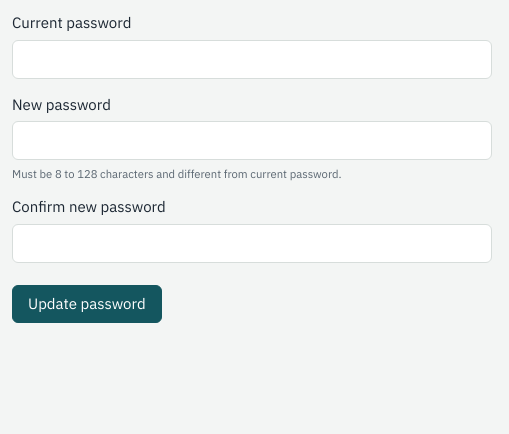
Test case: ChangePasswordForm Component › displays API error when changePassword fails
Step 1. Type "WrongPassword123!" into the password field labelled "Current password" → (252, 59), box x1=12 y1=40 x2=492 y2=79
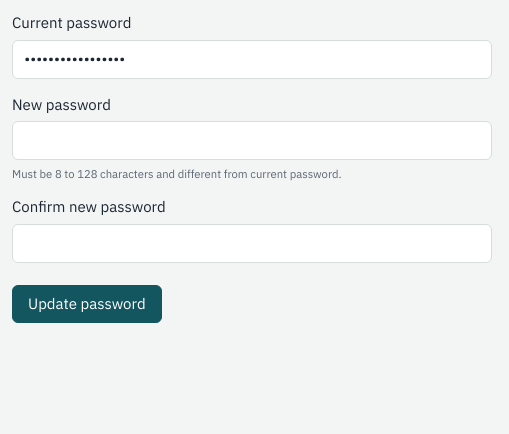
Step 2. Type "NewSecretPassword123!" into the password field labelled "New password" → (252, 141), box x1=12 y1=121 x2=492 y2=160
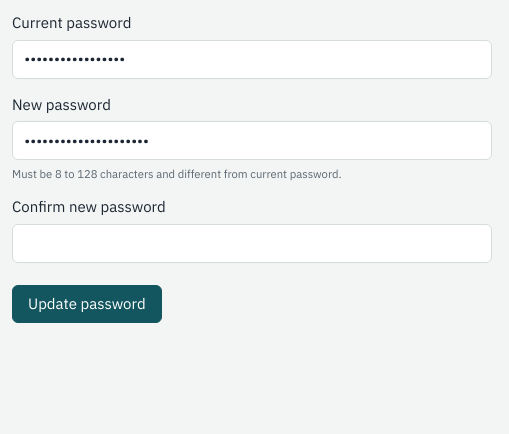
Step 3. Type "NewSecretPassword123!" into the password field labelled "Confirm new password" → (252, 243), box x1=12 y1=224 x2=492 y2=262
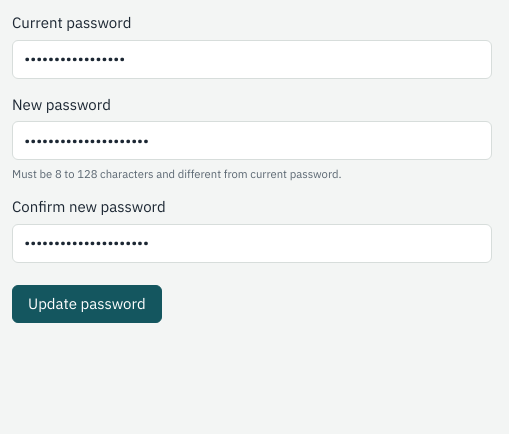
Step 4. Click the button "Update password" → (87, 304), box x1=12 y1=285 x2=162 y2=323
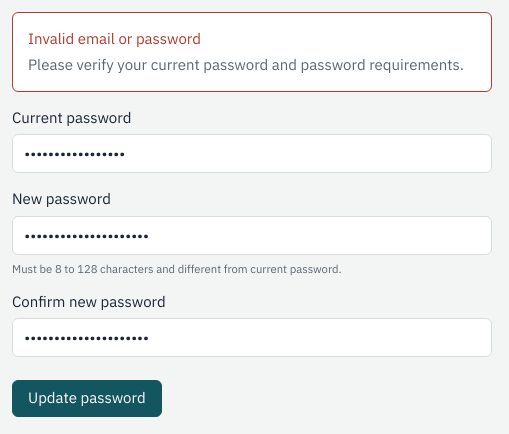
Expected: the text "Invalid email or password" is shown, x1=28 y1=29 x2=201 y2=48
